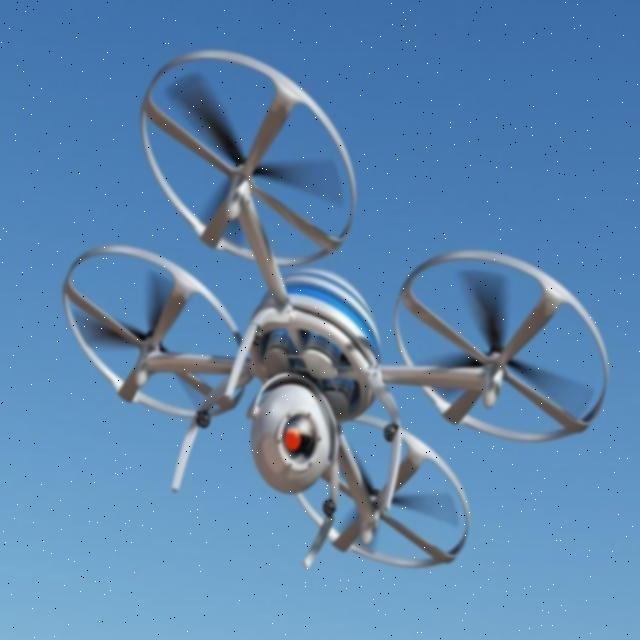UAV: (61, 49, 610, 572)
